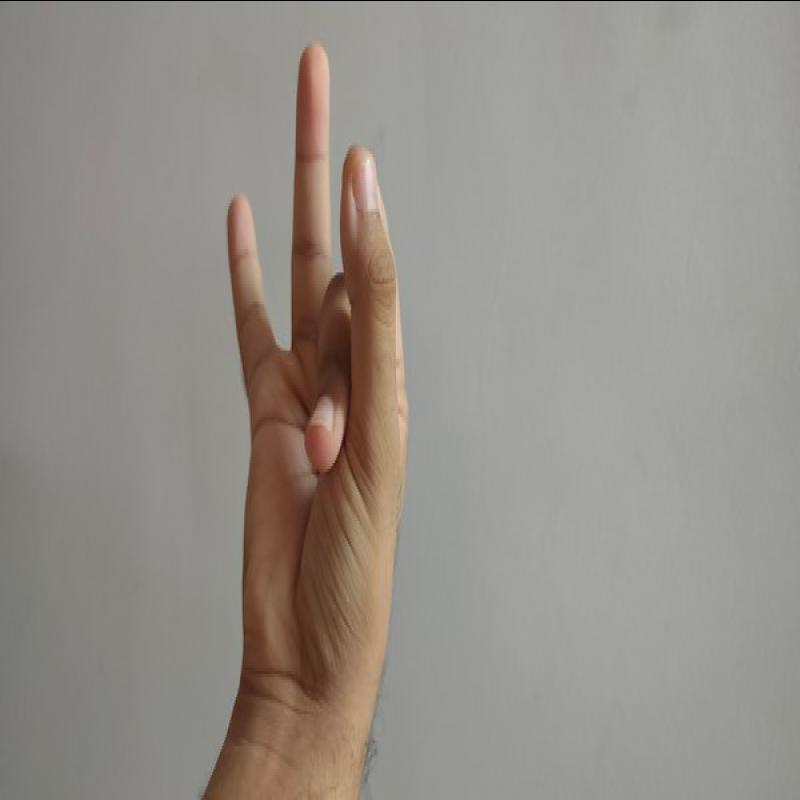Katakam: (166, 42, 428, 735)
